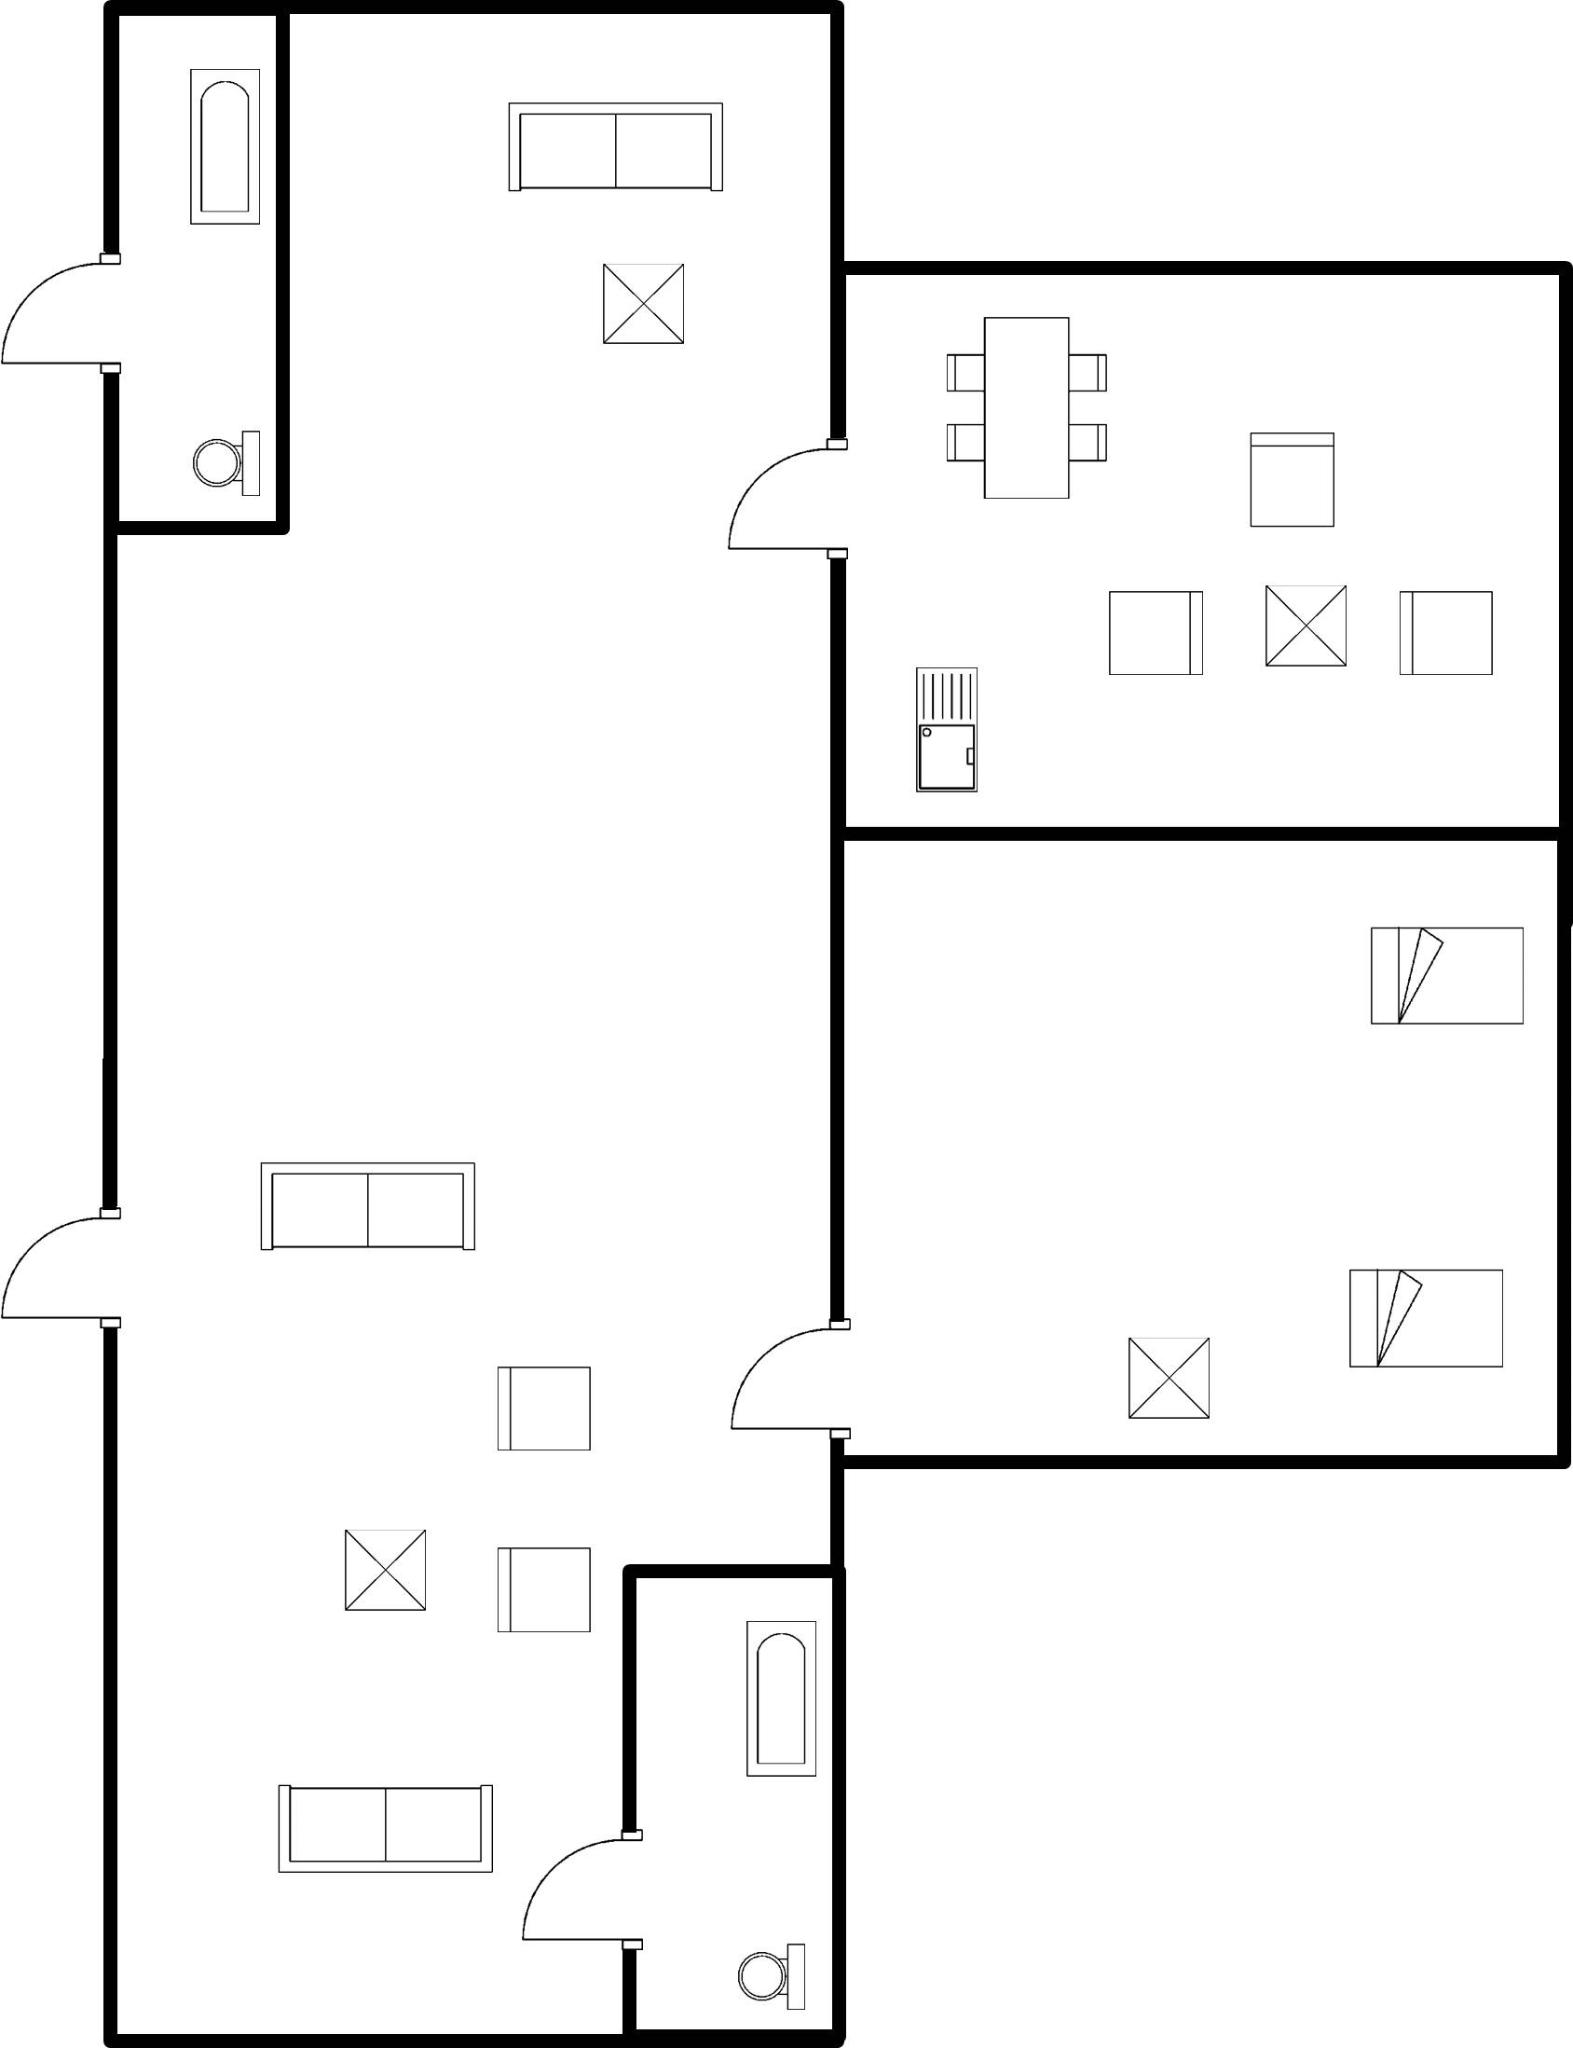bed: (1355, 907, 1532, 1041), (1337, 1259, 1522, 1381)
dining_table: (935, 299, 1119, 510)
sink: (901, 654, 991, 804)
sofa: (489, 86, 732, 208), (261, 1772, 509, 1888), (246, 1146, 486, 1260)
toilet: (722, 1936, 823, 2017), (180, 420, 273, 505)
tub: (170, 51, 271, 236), (732, 1602, 823, 1790)
